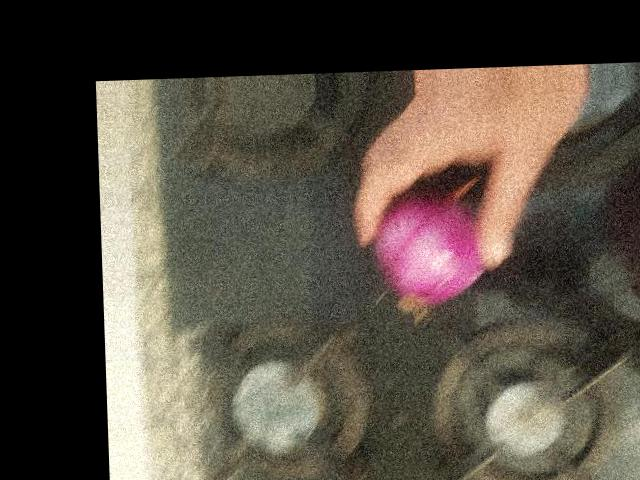onion: (366, 182, 490, 306)
